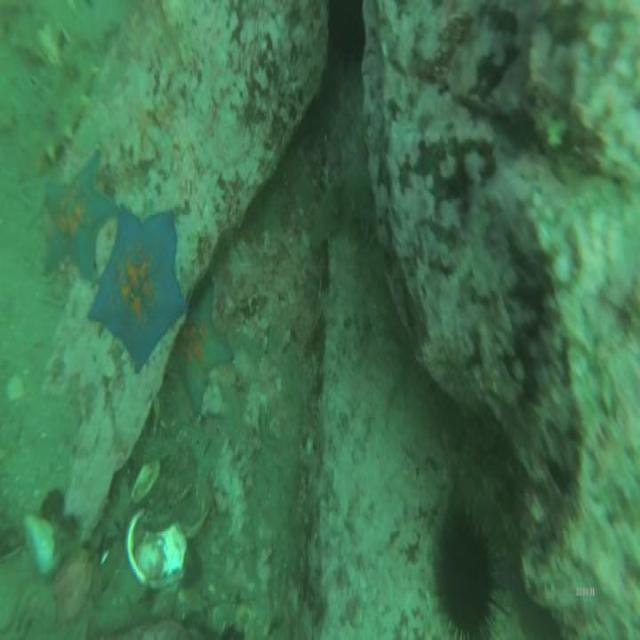echinus: (434, 504, 498, 637)
holothurian: (36, 55, 98, 160), (310, 182, 375, 246)
starfish: (87, 210, 185, 373), (36, 165, 114, 282), (178, 280, 234, 406)
